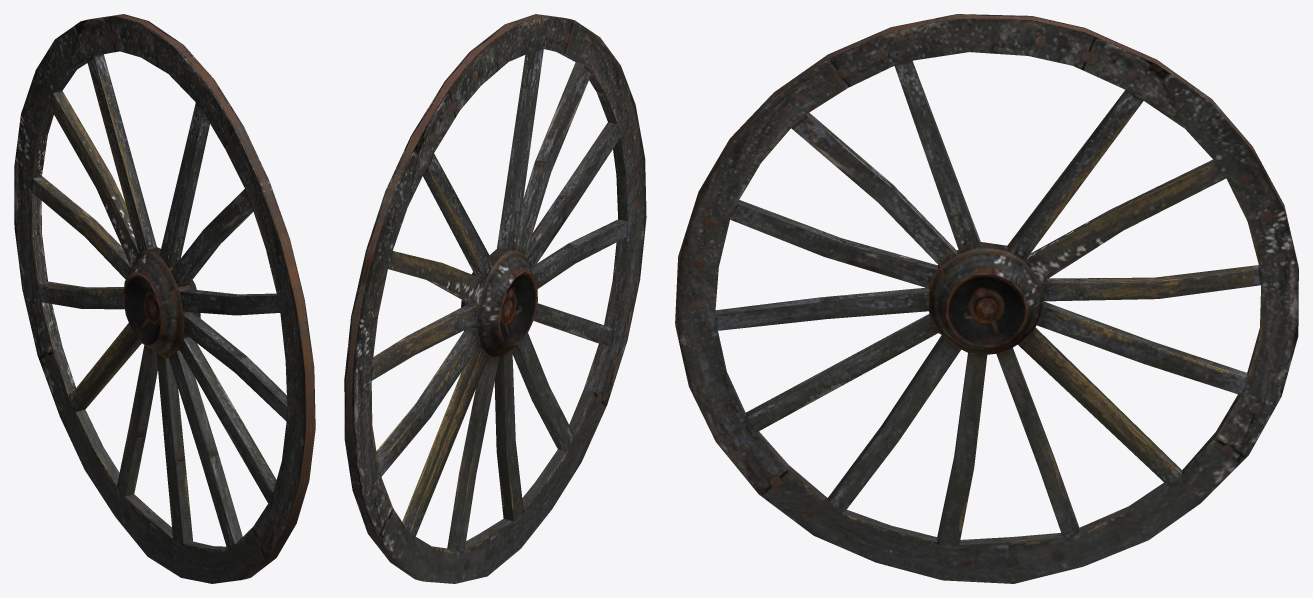
File: Wheel_LOD01.fbx
3 views of the same model, side by side, from view 1: azimuth 30°, elevation 25°; view 2: azimuth 150°, elevation 25°; view 3: azimuth 270°, elevation 25° (orthographic). The views are drawn at different scales.
Visible parts, largest first — view 1: Mesh Object; view 2: Mesh Object; view 3: Mesh Object.
Boxes of the visible parts, x1,y1,x2,y2 form: Mesh Object: (14,14,315,583); Mesh Object: (344,14,646,583); Mesh Object: (675,14,1298,583).
Size of the model in its own units: 0.0781 by 0.9921 by 0.9921.
